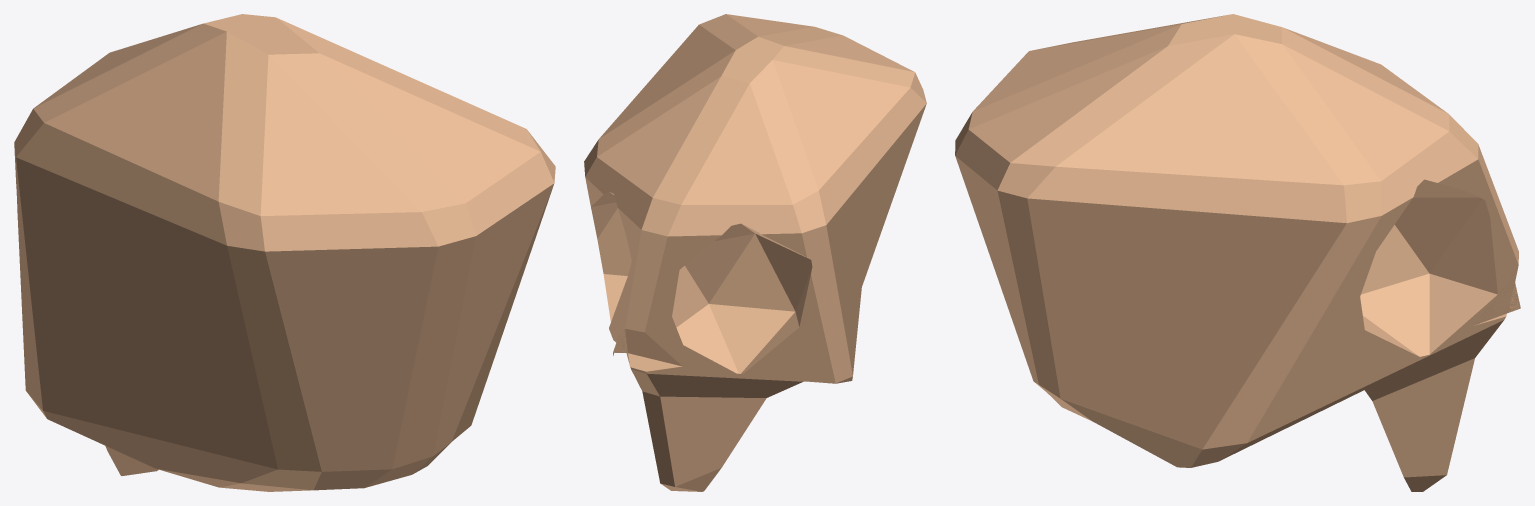
Rendered from Skull_01.fbx.
3 renders of one model, left to right at view 1: azimuth 30°, elevation 25°; view 2: azimuth 150°, elevation 25°; view 3: azimuth 270°, elevation 25°, orthographic. The views are drawn at different scales.
Parts seen in each view (by area): view 1: Skull; view 2: Skull; view 3: Skull.
Boxes of the visible parts, x1,y1,x2,y2 form: Skull: [14, 14, 555, 491]; Skull: [584, 14, 926, 491]; Skull: [955, 14, 1520, 491].
Bounding box in the file's own units: 133 × 184 × 202.
